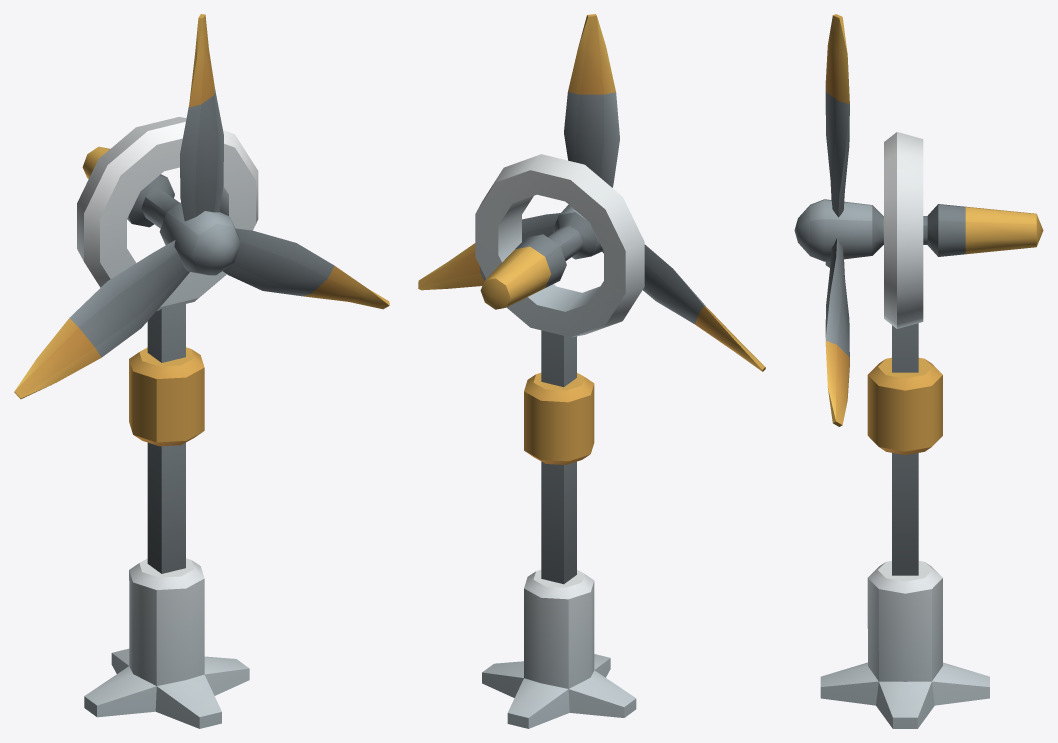
The model's file is windturbine_tall.gltf.
3 views of the same model, side by side, from view 1: azimuth 30°, elevation 25°; view 2: azimuth 150°, elevation 25°; view 3: azimuth 270°, elevation 25° (orthographic). The views are drawn at different scales.
Parts seen in each view (by area): view 1: windturbine_tall_fan, windturbine_tall; view 2: windturbine_tall_fan, windturbine_tall; view 3: windturbine_tall, windturbine_tall_fan.
Part boxes in pixels (x1,y1,x2,y2): windturbine_tall_fan: (14, 14, 389, 399); windturbine_tall: (84, 303, 249, 728); windturbine_tall_fan: (418, 14, 765, 371); windturbine_tall: (482, 330, 636, 728); windturbine_tall: (820, 323, 989, 728); windturbine_tall_fan: (794, 14, 1043, 426).
Size of the model in its own units: 1.67 by 3 by 0.9998.
Materials: 1 (1 with a texture image).
